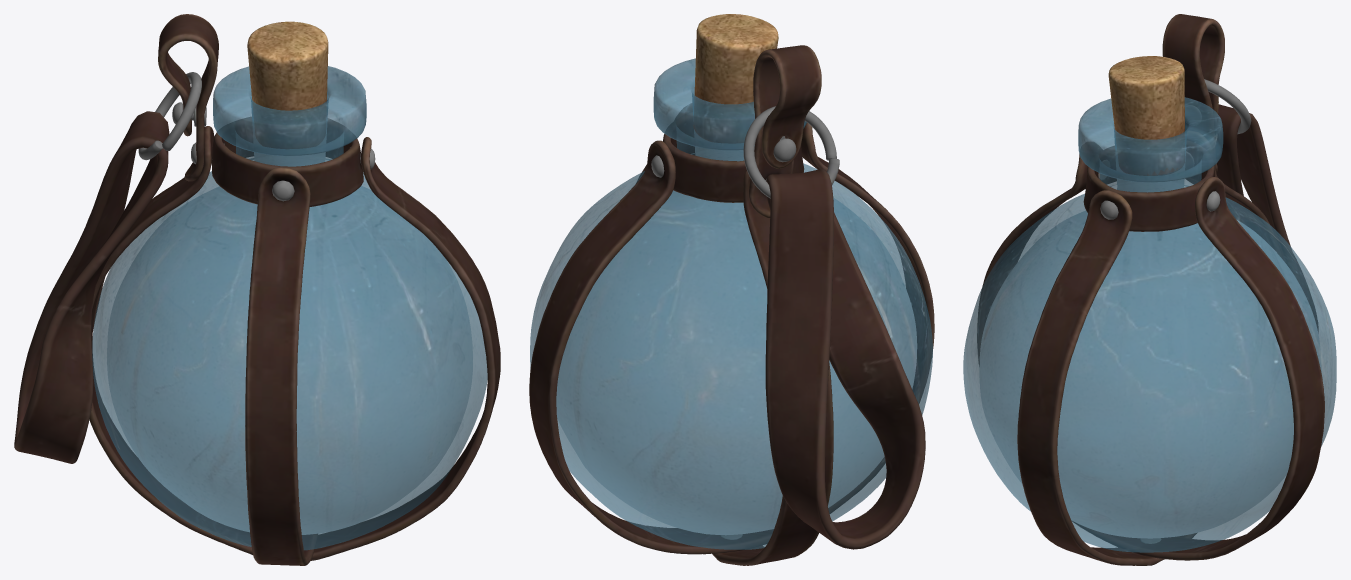
Rendered from alcohol-transformed.glb.
3 views of the same model, side by side, from view 1: azimuth 30°, elevation 25°; view 2: azimuth 150°, elevation 25°; view 3: azimuth 270°, elevation 25° (orthographic). The views are drawn at different scales.
Parts seen in each view (by area): view 1: Sklianka, Remny, Remeshok, Probka, Kolco; view 2: Sklianka, Remeshok, Remny, Probka, Kolco; view 3: Sklianka, Remny, Probka, Remeshok, Kolco.
Boxes of the visible parts, x1,y1,x2,y2 form: Sklianka: (92,66,487,550); Remny: (89,14,500,565); Remeshok: (14,111,169,463); Probka: (247,21,328,148); Kolco: (138,72,201,160); Sklianka: (530,58,932,549); Remeshok: (765,169,925,549); Remny: (529,45,934,565); Probka: (693,14,778,142); Kolco: (743,106,839,198); Sklianka: (963,97,1336,552); Remny: (977,14,1324,565); Probka: (1108,56,1184,175); Remeshok: (1214,104,1318,331); Kolco: (1204,79,1251,134).
Bounding box in the file's own units: 0.159 × 0.2048 × 0.1372.
1 material, 1 textured.
